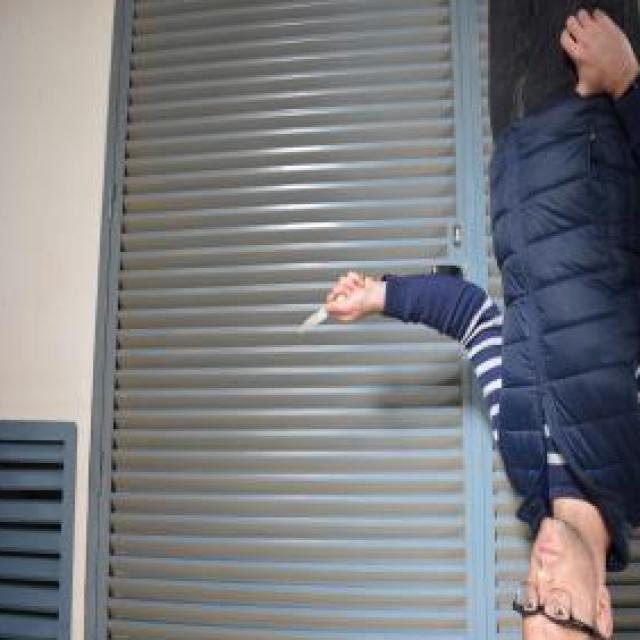knife: (295, 272, 368, 341)
